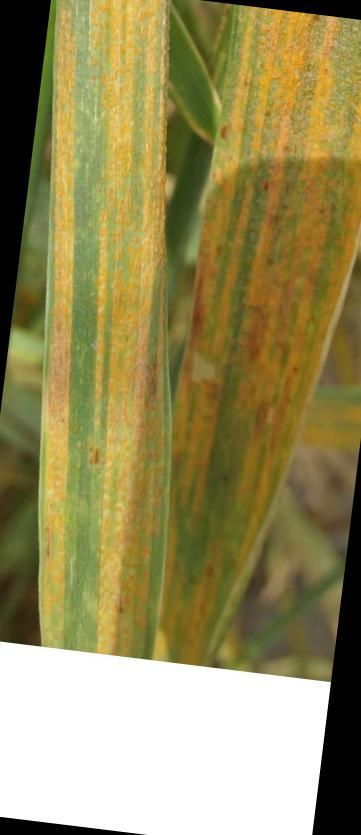Wheat: (43, 23, 161, 619)
